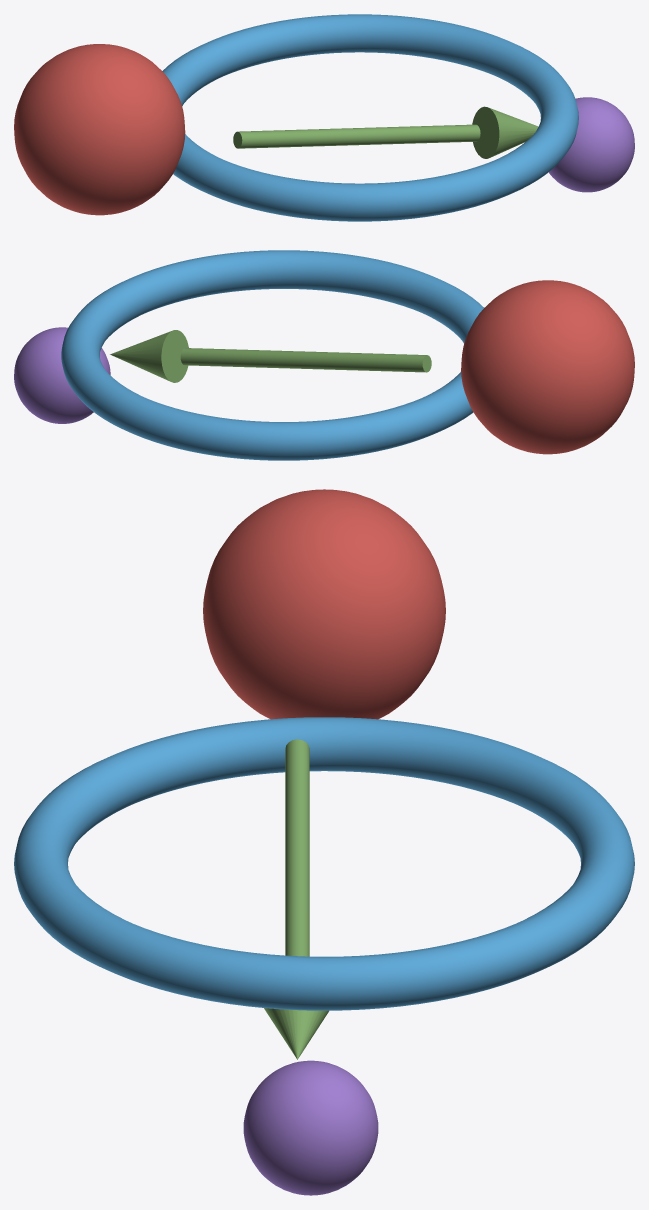
File: biology-health-immune-response.glb
3 views of the same model, one above another, from view 1: azimuth 30°, elevation 25°; view 2: azimuth 150°, elevation 25°; view 3: azimuth 270°, elevation 25° (orthographic). The views are drawn at different scales.
Visible parts, largest first — view 1: immune-shield-ring, pathogen-target, memory-cell-response, trained-response-arrow-shaft, trained-response-arrow-head; view 2: immune-shield-ring, pathogen-target, memory-cell-response, trained-response-arrow-shaft, trained-response-arrow-head; view 3: immune-shield-ring, pathogen-target, memory-cell-response, trained-response-arrow-shaft, trained-response-arrow-head.
Part boxes in pixels (x1=…): immune-shield-ring: x1=162, y1=14, x2=578, y2=221; pathogen-target: x1=14, y1=44, x2=185, y2=215; memory-cell-response: x1=549, y1=97, x2=634, y2=192; trained-response-arrow-shaft: x1=233, y1=124, x2=480, y2=148; trained-response-arrow-head: x1=472, y1=106, x2=538, y2=158; immune-shield-ring: x1=61, y1=250, x2=483, y2=460; pathogen-target: x1=461, y1=280, x2=634, y2=454; memory-cell-response: x1=14, y1=327, x2=110, y2=423; trained-response-arrow-shaft: x1=180, y1=348, x2=431, y2=372; trained-response-arrow-head: x1=110, y1=330, x2=188, y2=382; immune-shield-ring: x1=14, y1=717, x2=634, y2=1010; pathogen-target: x1=203, y1=489, x2=445, y2=719; memory-cell-response: x1=243, y1=1060, x2=378, y2=1195; trained-response-arrow-shaft: x1=285, y1=739, x2=309, y2=956; trained-response-arrow-head: x1=264, y1=1008, x2=328, y2=1059.
Size of what is drawn, in the model's own units: 1.45 by 0.58 by 0.92.
